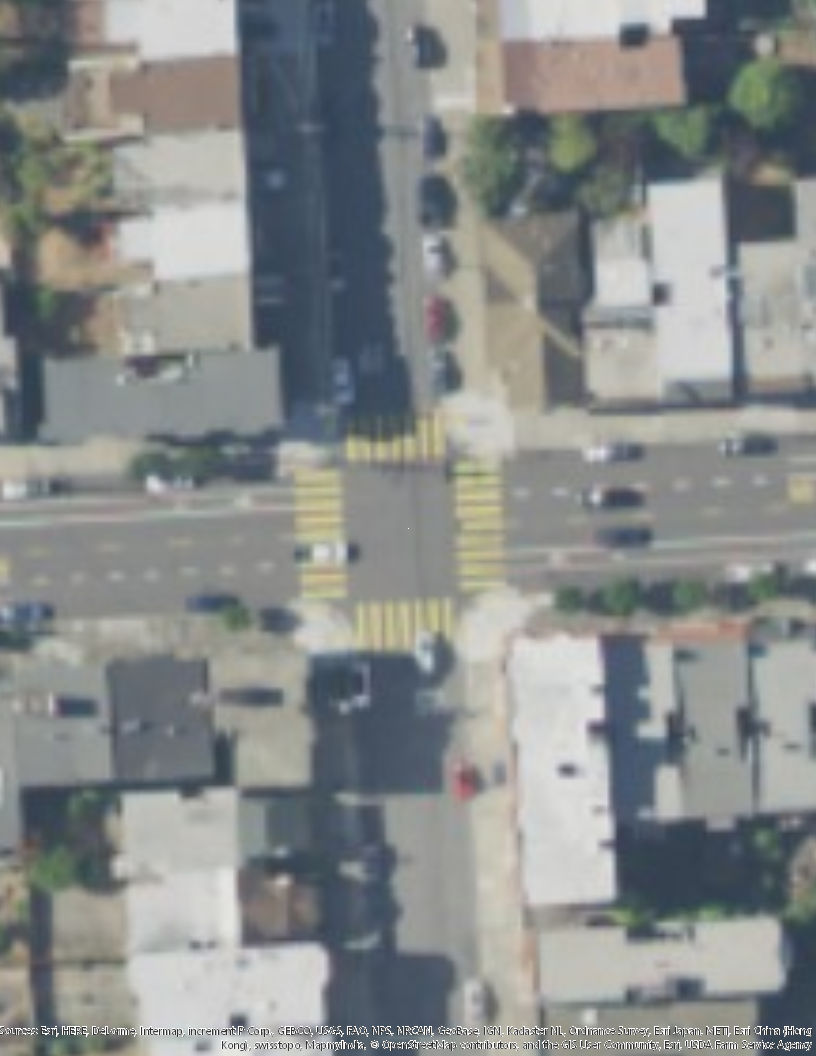zebracross: (291, 468, 348, 595), (453, 459, 506, 593), (357, 598, 455, 656), (348, 411, 445, 465)
